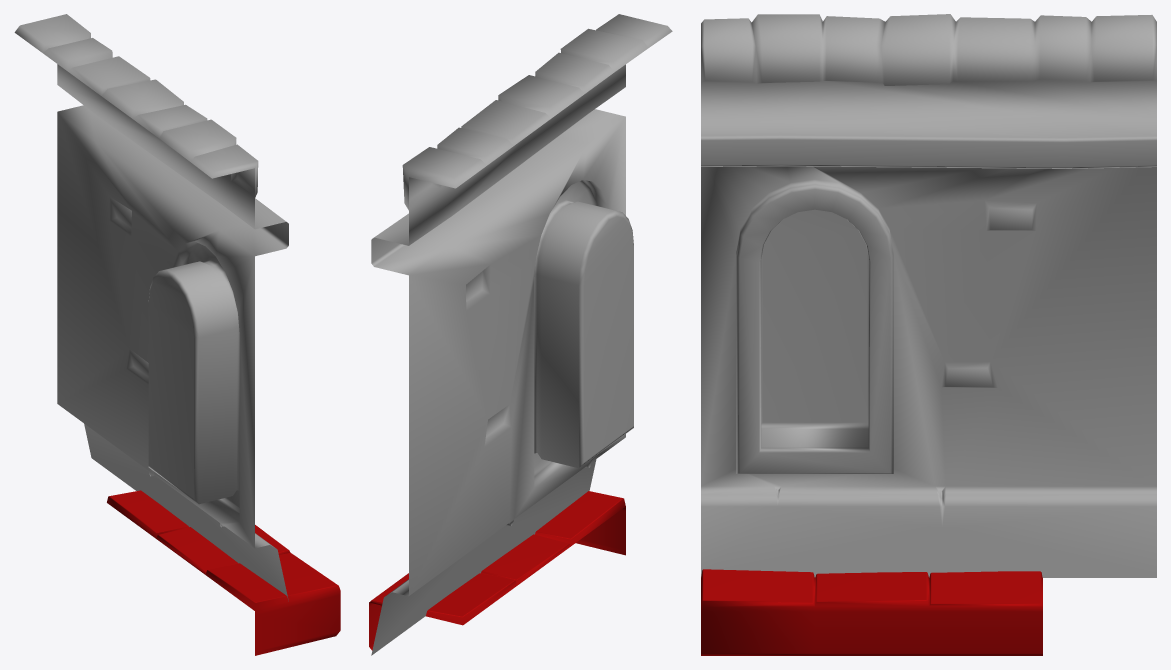
File: SM_castle_wall_arch_l_low.fbx
3 renders of one model, left to right at view 1: azimuth 30°, elevation 25°; view 2: azimuth 150°, elevation 25°; view 3: azimuth 270°, elevation 25°, orthographic. The views are drawn at different scales.
Parts seen in each view (by area): view 1: SM_castle_wall_arch_l_wall_low, SM_castle_wall_arch_l_floor_low; view 2: SM_castle_wall_arch_l_wall_low, SM_castle_wall_arch_l_floor_low; view 3: SM_castle_wall_arch_l_wall_low, SM_castle_wall_arch_l_floor_low.
Part boxes in pixels (x1,y1,x2,y2): SM_castle_wall_arch_l_wall_low: (14, 14, 288, 601); SM_castle_wall_arch_l_floor_low: (107, 490, 340, 655); SM_castle_wall_arch_l_wall_low: (371, 14, 672, 655); SM_castle_wall_arch_l_floor_low: (369, 491, 625, 650); SM_castle_wall_arch_l_wall_low: (701, 14, 1156, 577); SM_castle_wall_arch_l_floor_low: (701, 569, 1042, 655).
Size of the model in its own units: 150 by 556 by 400.
